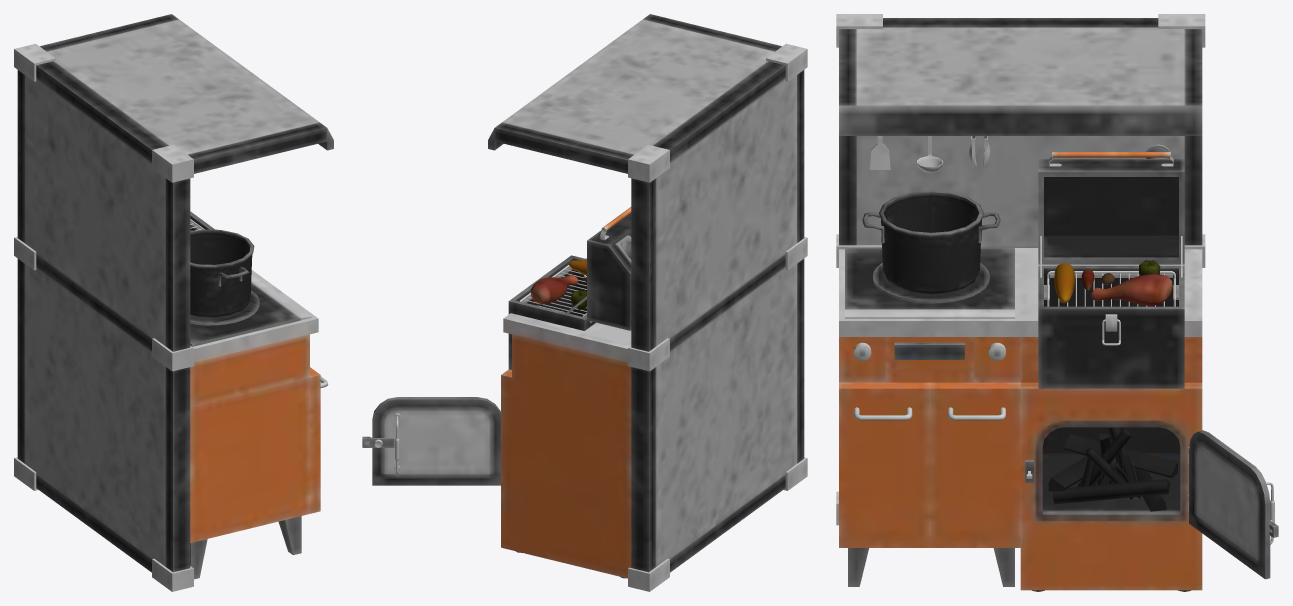
The model's file is SM_KitchenModern_71667a.glb.
3 renders of one model, left to right at view 1: azimuth 30°, elevation 25°; view 2: azimuth 150°, elevation 25°; view 3: azimuth 270°, elevation 25°, orthographic. The views are drawn at different scales.
Bounding box in the file's own units: 1.19 × 1.88 × 1.51.
1 material, 1 textured.
